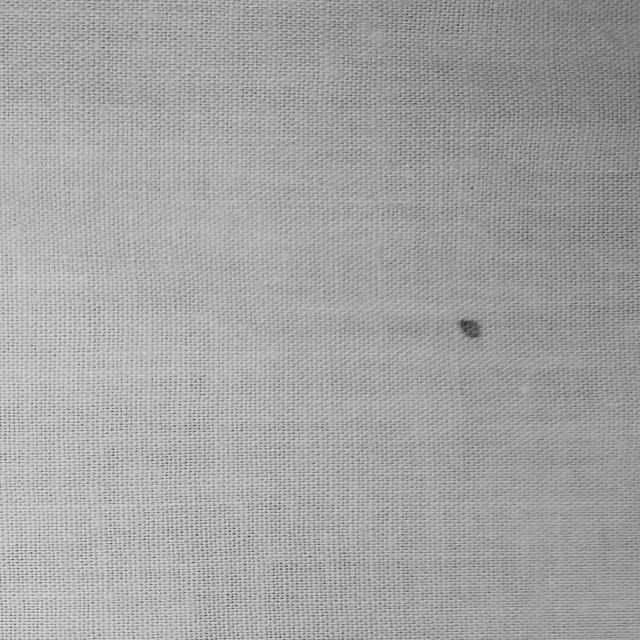Stain: (460, 320, 482, 338)
